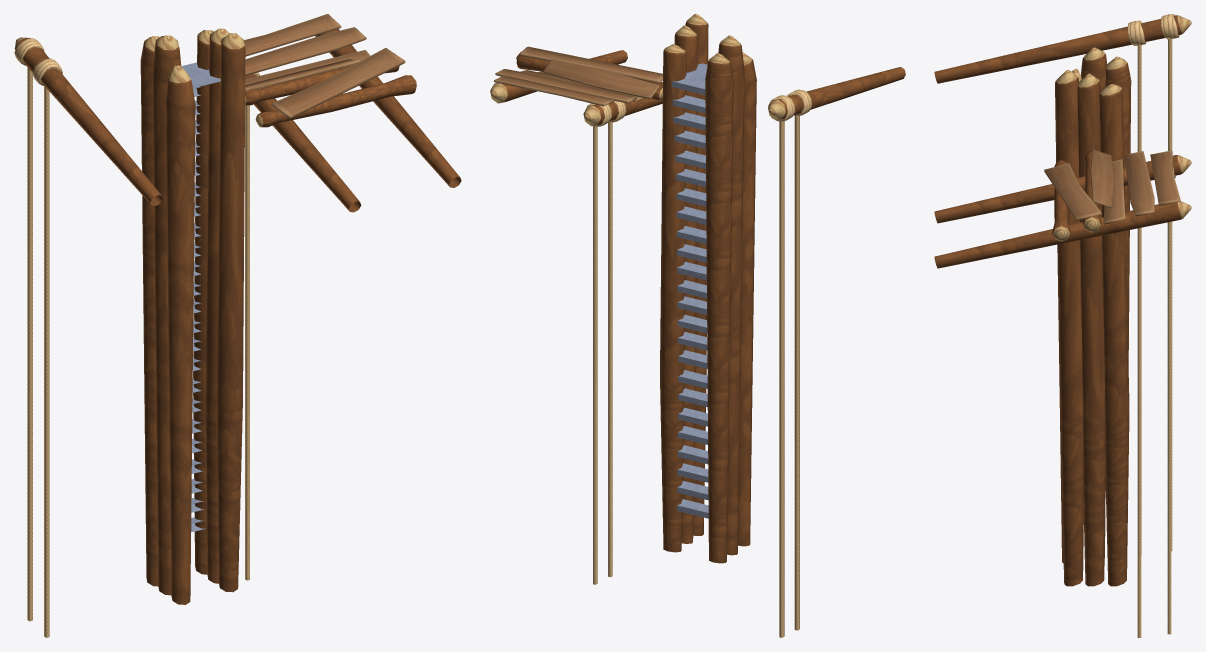
Rendered from Crankshaft_Tower.fbx.
3 renders of one model, left to right at view 1: azimuth 30°, elevation 25°; view 2: azimuth 150°, elevation 25°; view 3: azimuth 270°, elevation 25°, orthographic. The views are drawn at different scales.
Parts seen in each view (by area): view 1: polySurface910; view 2: polySurface910; view 3: polySurface910.
Part boxes in pixels (x1=…): polySurface910: x1=14, y1=14, x2=461, y2=637; polySurface910: x1=490, y1=14, x2=905, y2=637; polySurface910: x1=934, y1=14, x2=1191, y2=637.
Size of the model in its own units: 68.83 by 115 by 48.97.
